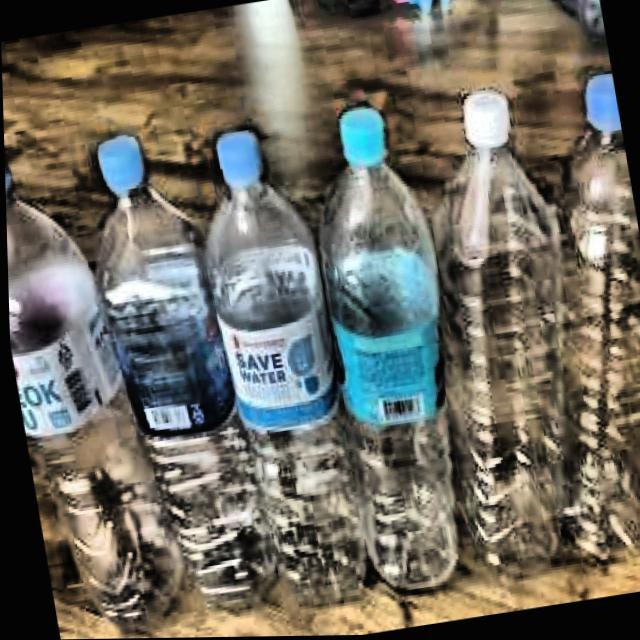Bottles: (385, 74, 631, 598), (67, 107, 286, 639), (287, 90, 499, 615), (200, 113, 386, 638), (3, 123, 189, 640)
